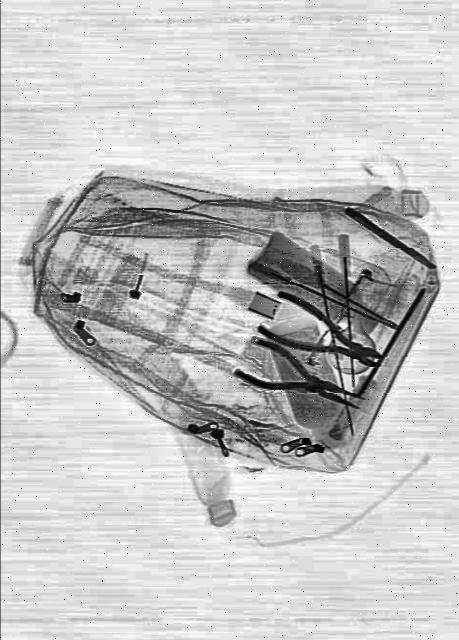Pliers: (258, 282, 388, 382), (235, 330, 368, 426)
